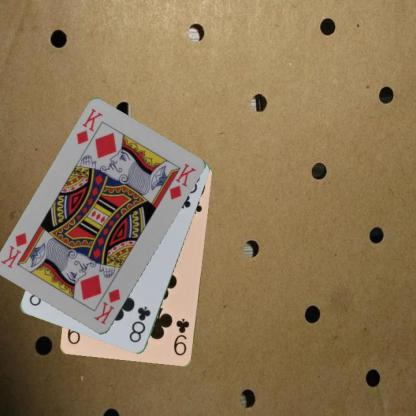8c: (126, 304, 152, 344)
9c: (171, 316, 191, 357)
Kd: (91, 286, 122, 326), (74, 106, 104, 146)
